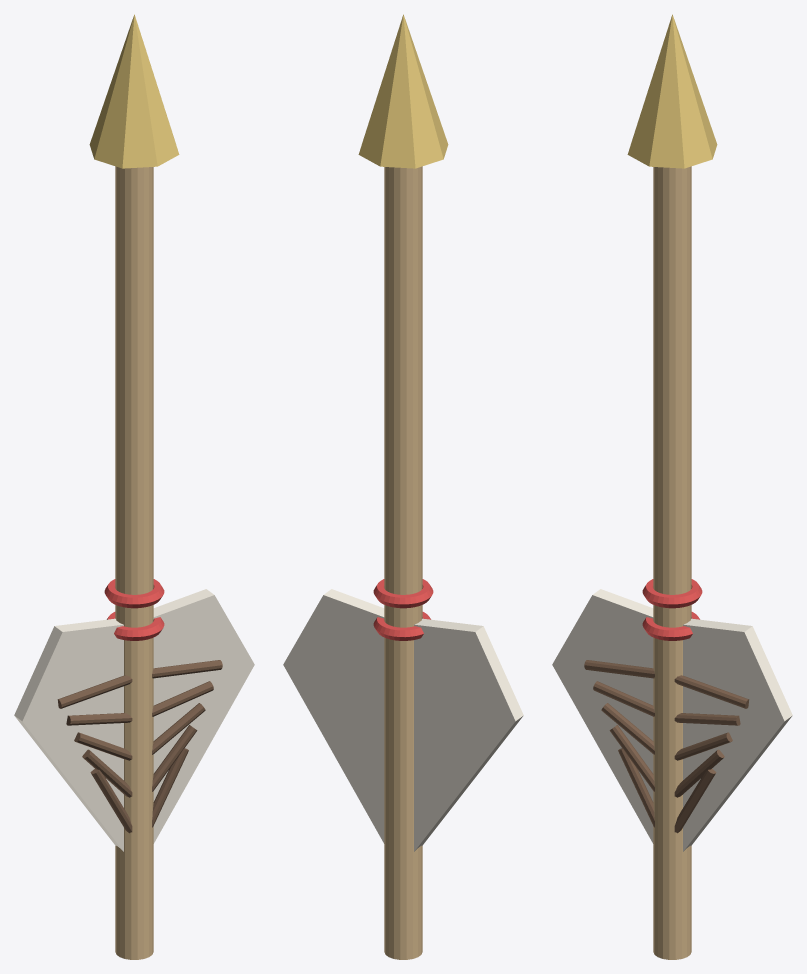
The model's file is ritual_hamaya.glb.
3 renders of one model, left to right at view 1: azimuth 30°, elevation 25°; view 2: azimuth 150°, elevation 25°; view 3: azimuth 330°, elevation 25°, orthographic.
Visible parts, largest first — view 1: Hamaya ritual white arrow, Feather fletching with notched edge, Feather fletching with notched edge.001, Hamaya pointed gold arrowhead, Arrow fletching binding.001, Feather spines.004, Arrow fletching binding, Feather spines.009, Feather spines.005, Feather spines.006, Feather spines, Feather spines.008 (+4 smaller); view 2: Hamaya ritual white arrow, Feather fletching with notched edge, Feather fletching with notched edge.001, Hamaya pointed gold arrowhead, Arrow fletching binding.001, Arrow fletching binding; view 3: Hamaya ritual white arrow, Feather fletching with notched edge.001, Feather fletching with notched edge, Hamaya pointed gold arrowhead, Arrow fletching binding.001, Feather spines.009, Arrow fletching binding, Feather spines.004, Feather spines, Feather spines.001, Feather spines.005, Feather spines.003 (+4 smaller).
Part boxes in pixels (<box>): Hamaya ritual white arrow: <box>115,166,153,959</box>; Feather fletching with notched edge: <box>14,618,123,851</box>; Feather fletching with notched edge.001: <box>153,589,254,843</box>; Hamaya pointed gold arrowhead: <box>89,14,179,168</box>; Arrow fletching binding.001: <box>104,579,164,608</box>; Feather spines.004: <box>57,675,132,708</box>; Arrow fletching binding: <box>107,612,164,640</box>; Feather spines.009: <box>152,660,222,678</box>; Feather spines.005: <box>152,748,188,827</box>; Feather spines.006: <box>152,725,197,791</box>; Feather spines: <box>90,769,132,833</box>; Feather spines.008: <box>152,681,213,716</box>; Hamaya ritual white arrow: <box>384,166,422,959</box>; Feather fletching with notched edge: <box>414,618,523,851</box>; Feather fletching with notched edge.001: <box>283,589,384,843</box>; Hamaya pointed gold arrowhead: <box>358,14,448,168</box>; Arrow fletching binding.001: <box>373,579,433,608</box>; Arrow fletching binding: <box>373,612,430,640</box>; Hamaya ritual white arrow: <box>653,166,691,959</box>; Feather fletching with notched edge.001: <box>683,618,792,851</box>; Feather fletching with notched edge: <box>552,589,653,843</box>; Hamaya pointed gold arrowhead: <box>627,14,717,168</box>; Arrow fletching binding.001: <box>642,579,702,608</box>; Feather spines.009: <box>674,675,749,708</box>; Arrow fletching binding: <box>642,612,699,640</box>; Feather spines.004: <box>584,660,654,678</box>; Feather spines: <box>618,748,654,827</box>; Feather spines.001: <box>609,725,654,791</box>; Feather spines.005: <box>674,769,716,833</box>; Feather spines.003: <box>593,681,654,716</box>.
Bounding box in the file's own units: 0.5057 × 1.95 × 0.1751.
